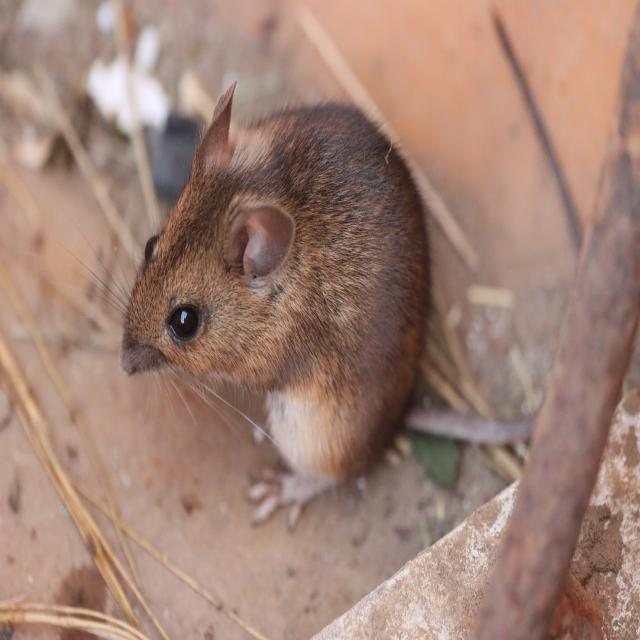rat: (115, 77, 428, 522)
